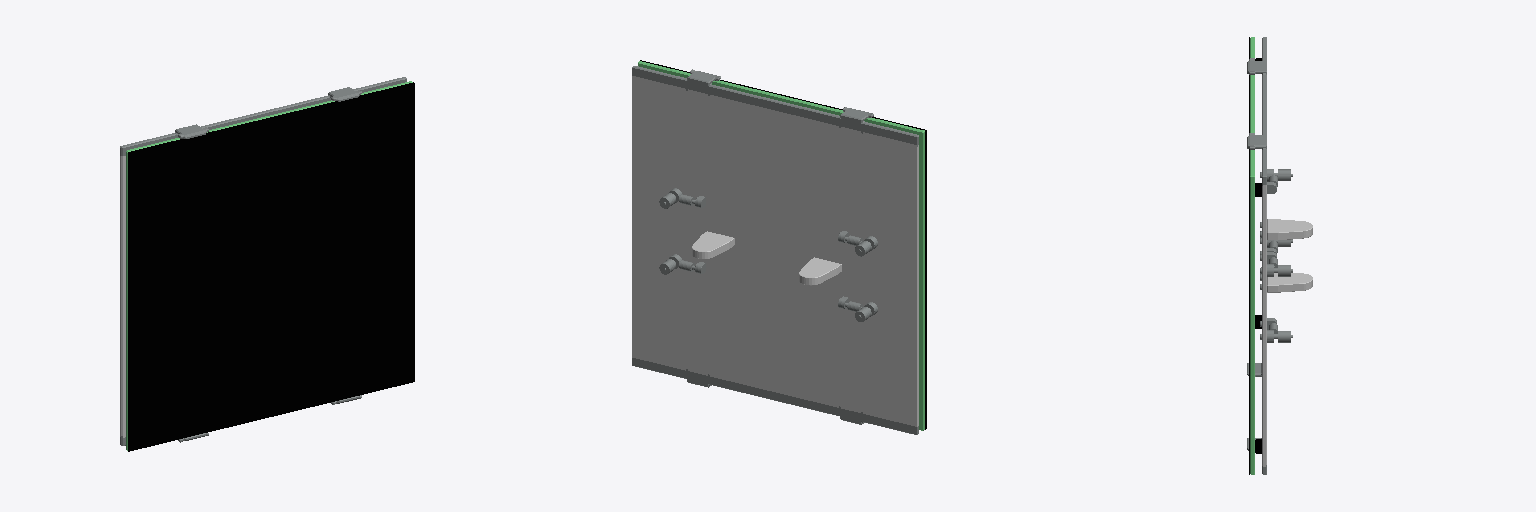
Rendered from place.obj.
3 renders of one model, left to right at view 1: azimuth 30°, elevation 25°; view 2: azimuth 150°, elevation 25°; view 3: azimuth 270°, elevation 25°, orthographic.
Parts seen in each view (by area): view 1: place_Cube.008; view 2: place_Cube.008; view 3: place_Cube.008.
Boxes of the visible parts, x1,y1,x2,y2 form: place_Cube.008: [120, 77, 414, 451]; place_Cube.008: [632, 60, 926, 434]; place_Cube.008: [1247, 37, 1312, 474].
Bounding box in the file's own units: 0.3418 × 0.3506 × 0.0678.